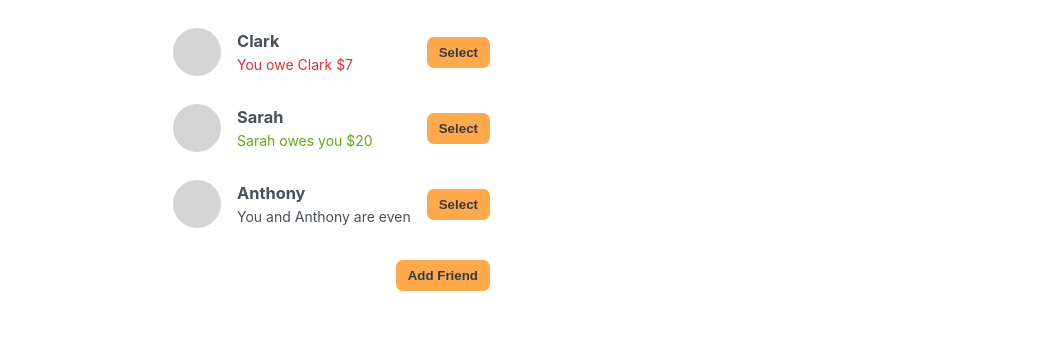
Scenario: clicking the same friend twice deselects and hides BillForm
What coordinates should you click on to do the following:
click the button "Select" in the row of "You owe"
I would click on:
 (458, 52)
Its box is [427,36,490,68].
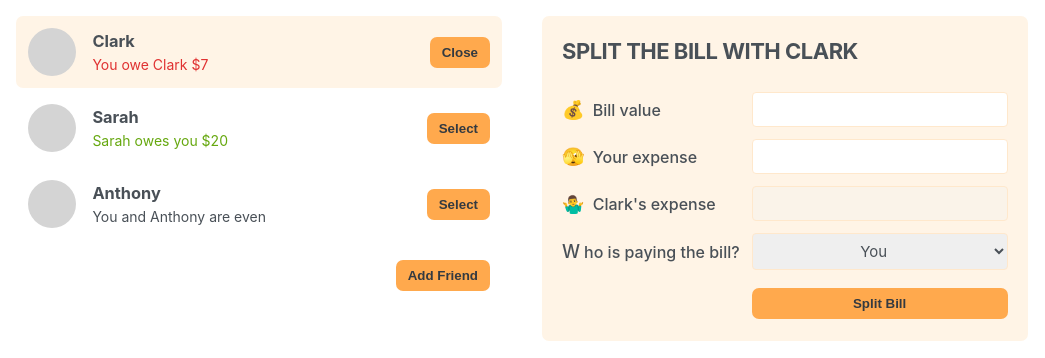
Check: the heading "Split the Bill with Clark" is shown, box [562,38,858,64]
What coordinates should you click on to do the following:
click the button "Close"
I would click on:
 (460, 52)
Its box is [430,36,490,68].
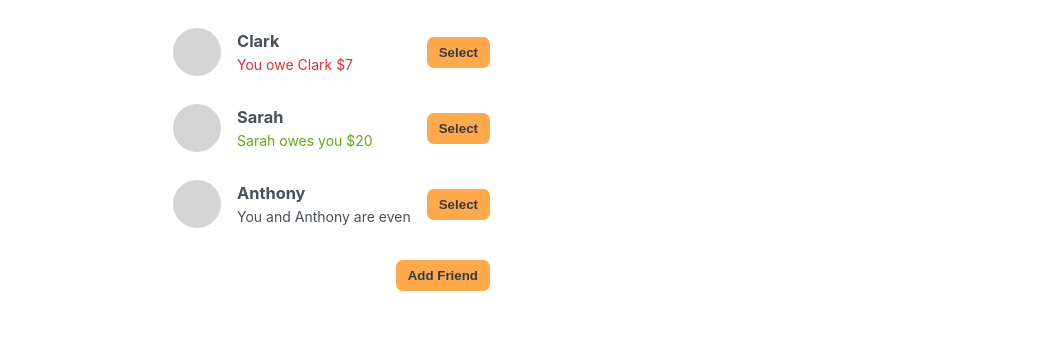
Check: the heading "Split the Bill with Clark" is gone
